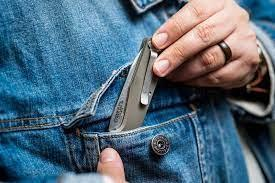Knife: (108, 37, 160, 133)
